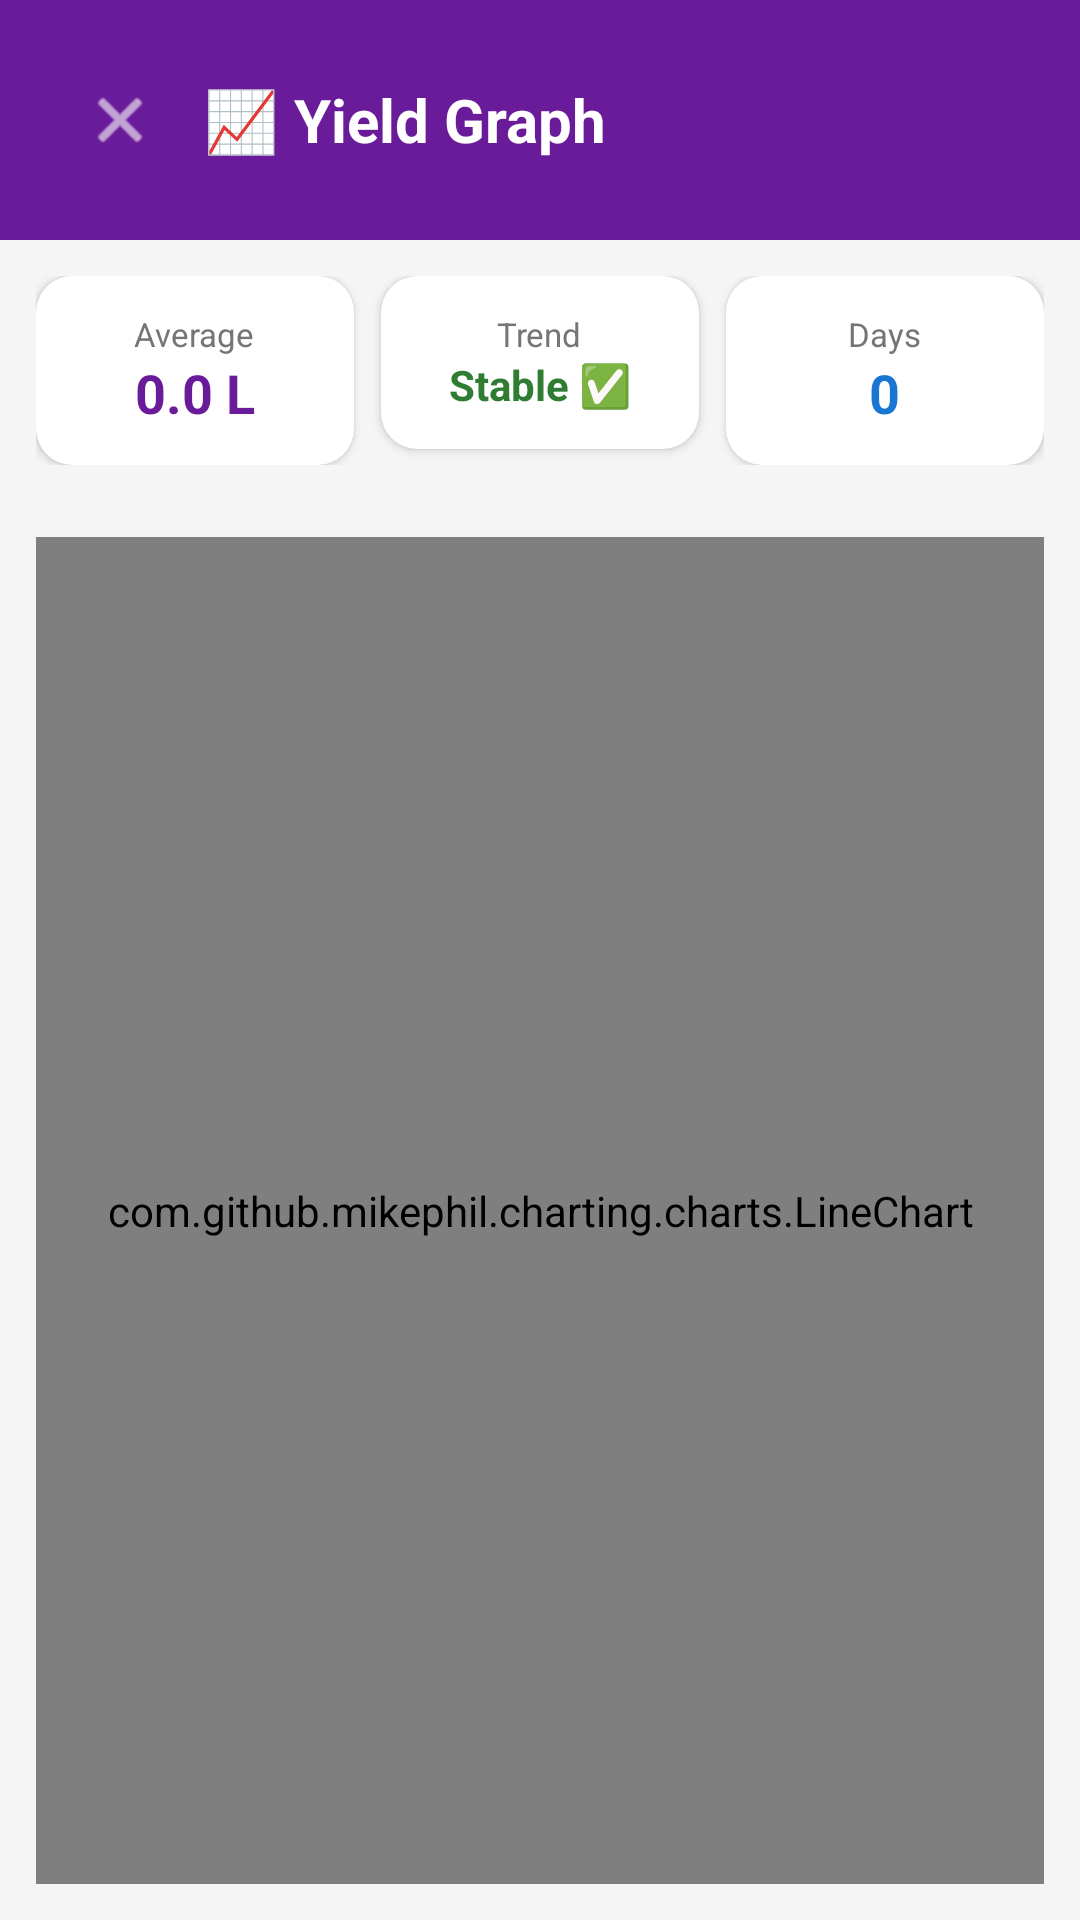

Icons on this 1080px×1920px Android screen, each with its box as (x1, y1, x2, y2):
close clear cancel: (97, 97, 143, 143)
